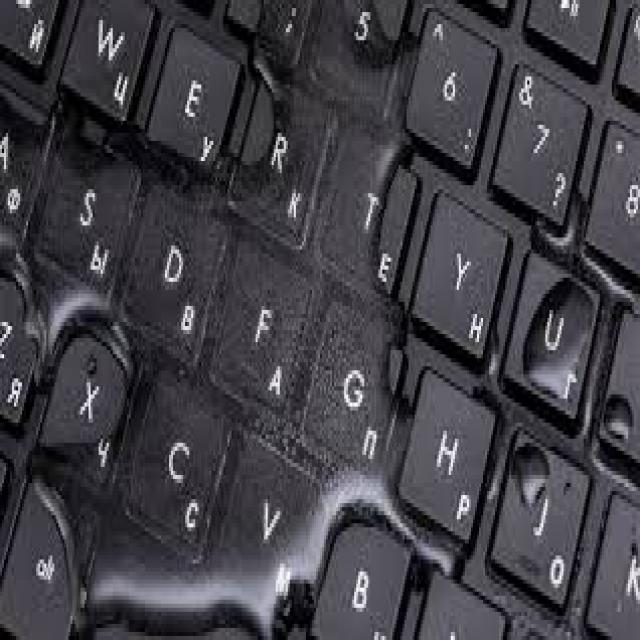others: (2, 4, 638, 628)
